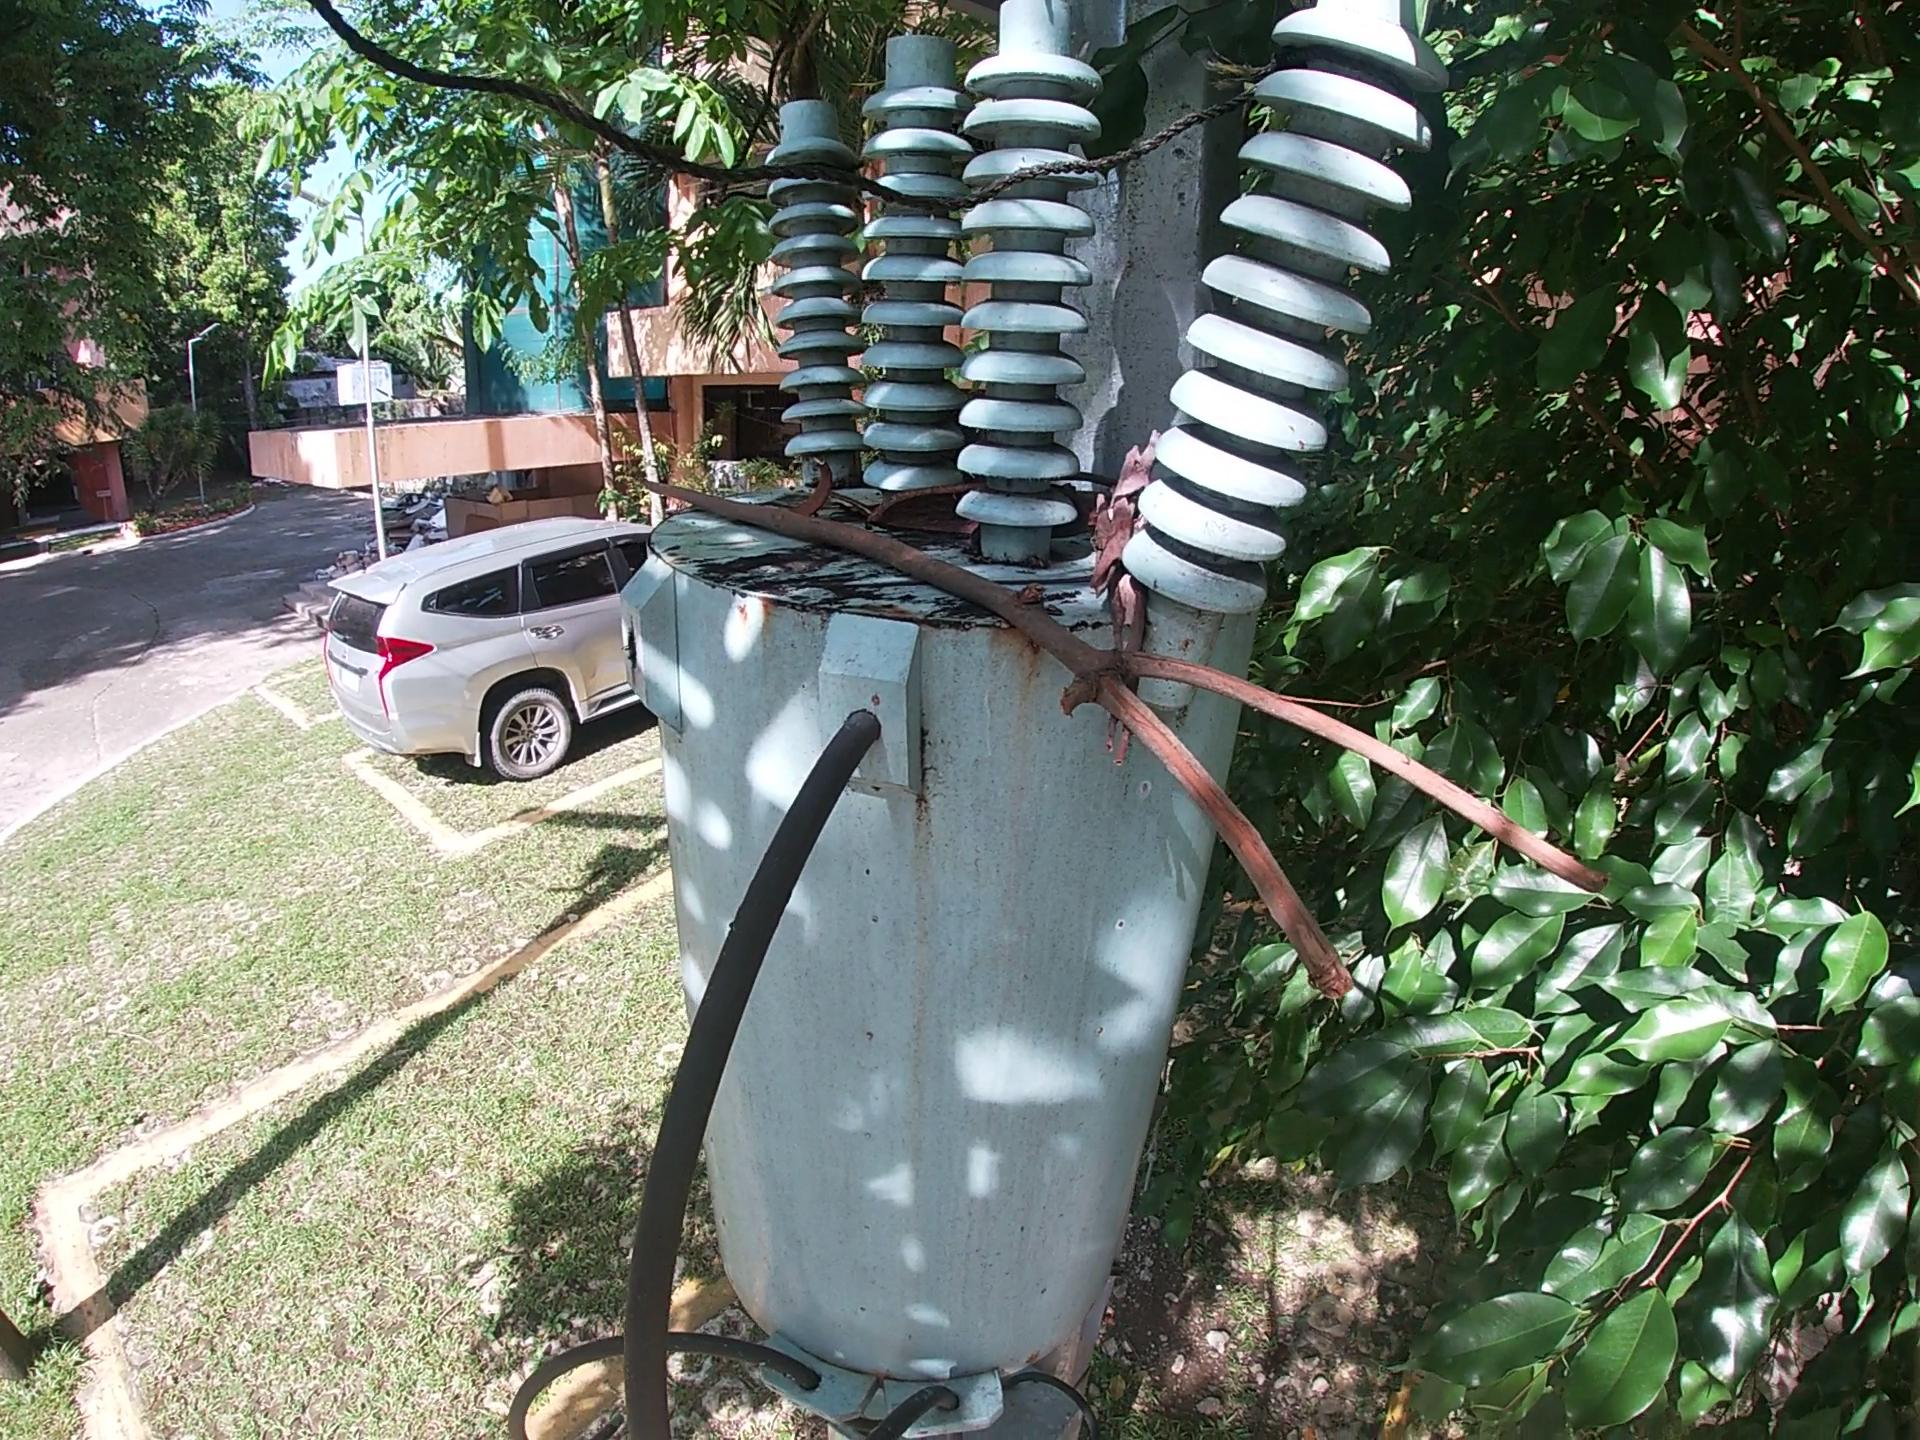mahogany fruit: (866, 487, 993, 545), (780, 479, 842, 504)
tree branch: (649, 483, 1630, 1057), (1098, 443, 1163, 787), (1061, 470, 1116, 490)
